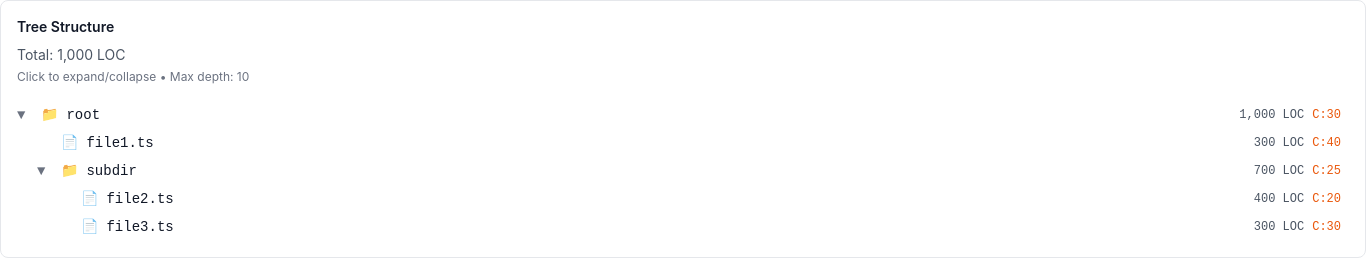
Test case: TreeView › expand/collapse functionality › collapses node when clicked
This screenshot has width=1366, height=275.
Expected: the text "file1.ts" is shown, [86,135,154,151]
// Click root to collapse
Step 1. Click the text "root" → (83, 115), box [66,107,100,123]
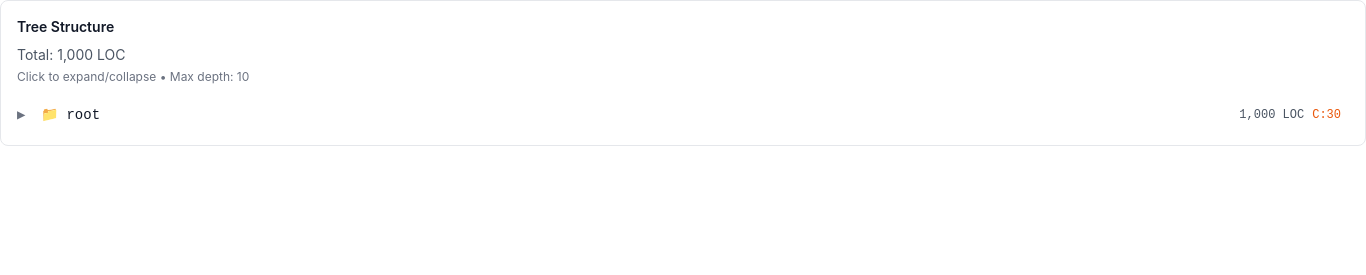
Now the text "file1.ts" is gone
